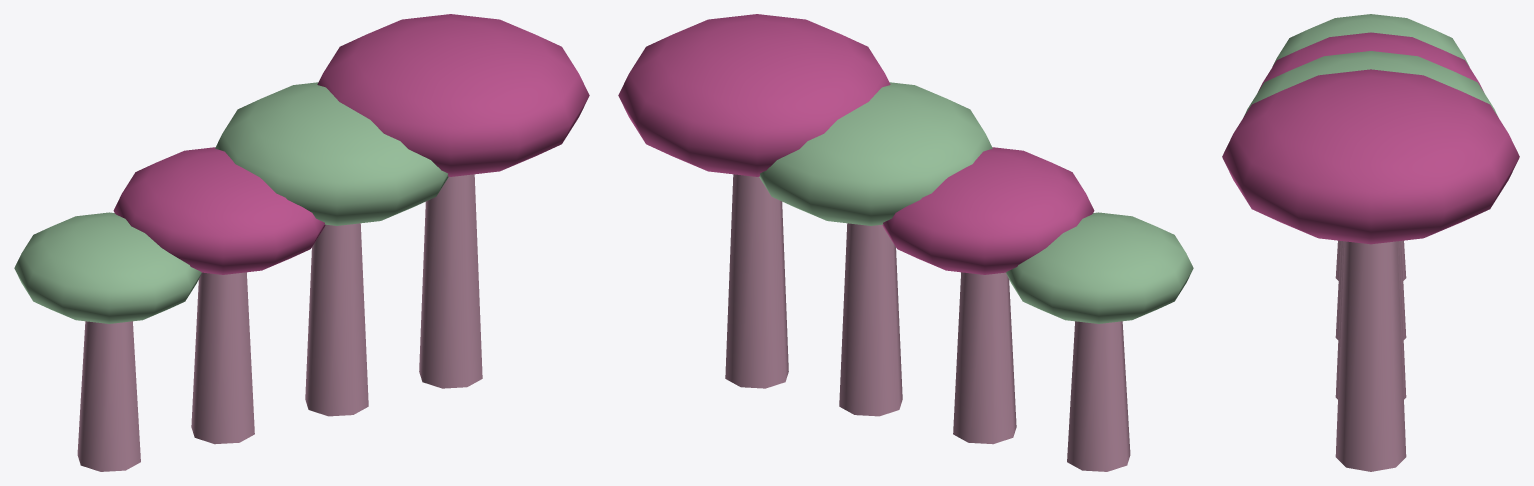
File: giant_mushroom_cluster.glb
3 renders of one model, left to right at view 1: azimuth 30°, elevation 25°; view 2: azimuth 150°, elevation 25°; view 3: azimuth 270°, elevation 25°, orthographic. The views are drawn at different scales.
Visible parts, largest first — view 1: cap_3, cap_2, cap_1, cap_0, stem_3, stem_2, stem_1, stem_0; view 2: cap_3, cap_2, cap_1, cap_0, stem_3, stem_2, stem_1, stem_0; view 3: cap_3, stem_3, cap_2, cap_1, cap_0, stem_2, stem_1.
Part boxes in pixels (x1=…): cap_3: x1=317, y1=14, x2=589, y2=176; cap_2: x1=215, y1=82, x2=448, y2=225; cap_1: x1=113, y1=147, x2=325, y2=274; cap_0: x1=14, y1=212, x2=201, y2=323; stem_3: x1=419, y1=174, x2=482, y2=388; stem_2: x1=305, y1=223, x2=368, y2=416; stem_1: x1=191, y1=272, x2=254, y2=444; stem_0: x1=77, y1=321, x2=140, y2=471; cap_3: x1=618, y1=14, x2=890, y2=176; cap_2: x1=759, y1=82, x2=992, y2=225; cap_1: x1=882, y1=147, x2=1094, y2=274; cap_0: x1=1006, y1=212, x2=1193, y2=323; stem_3: x1=725, y1=174, x2=788, y2=388; stem_2: x1=839, y1=223, x2=902, y2=416; stem_1: x1=953, y1=272, x2=1016, y2=444; stem_0: x1=1067, y1=321, x2=1130, y2=471; cap_3: x1=1222, y1=69, x2=1519, y2=244; stem_3: x1=1335, y1=241, x2=1406, y2=471; cap_2: x1=1244, y1=51, x2=1497, y2=116; cap_1: x1=1258, y1=32, x2=1483, y2=91; cap_0: x1=1272, y1=14, x2=1469, y2=66; stem_2: x1=1335, y1=241, x2=1406, y2=399; stem_1: x1=1335, y1=241, x2=1406, y2=339.
Size of what is drawn, in the model's own units: 3.44 by 2.03 by 1.52.
